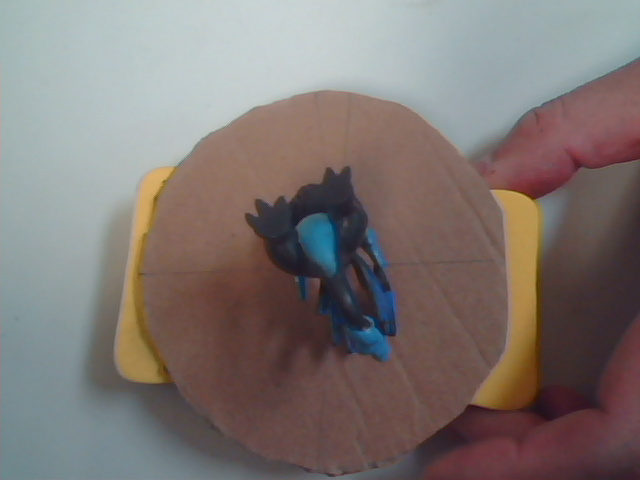charizard: (236, 135, 473, 373)
